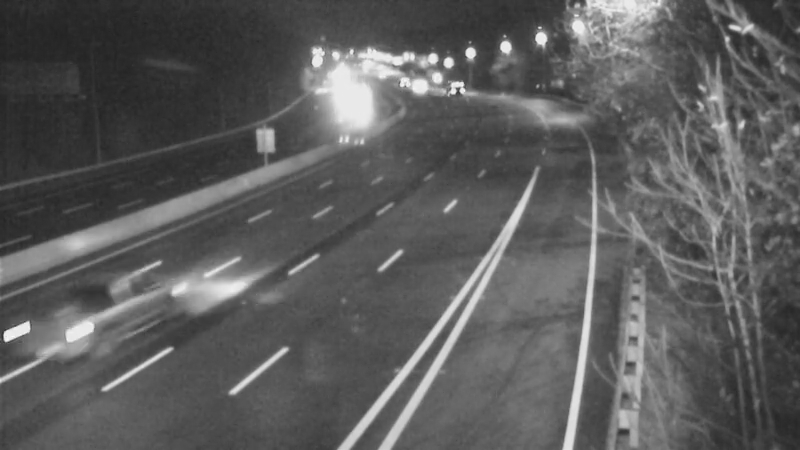vehicle: (58, 263, 168, 373), (386, 60, 436, 110), (432, 61, 482, 111), (330, 77, 380, 127)
